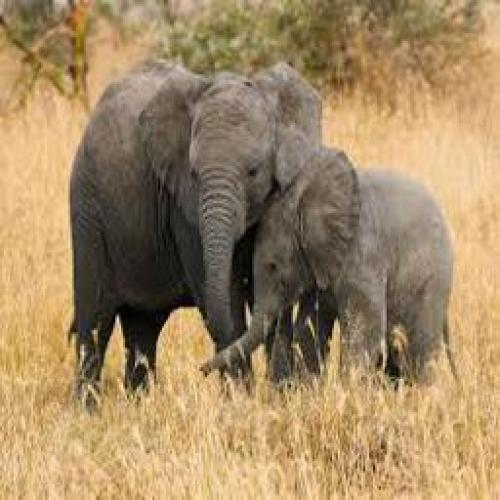african_elephant-endangered: (63, 61, 321, 379), (211, 138, 458, 378)
